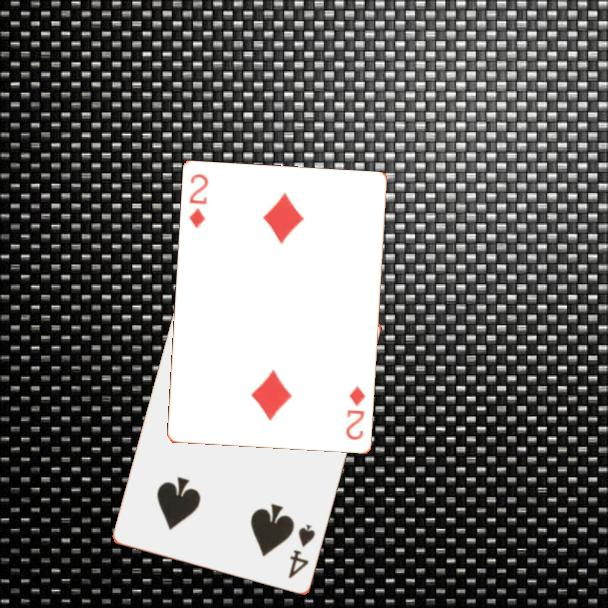d02: (342, 383, 369, 443), (186, 170, 212, 231)
s04: (285, 521, 318, 581)
